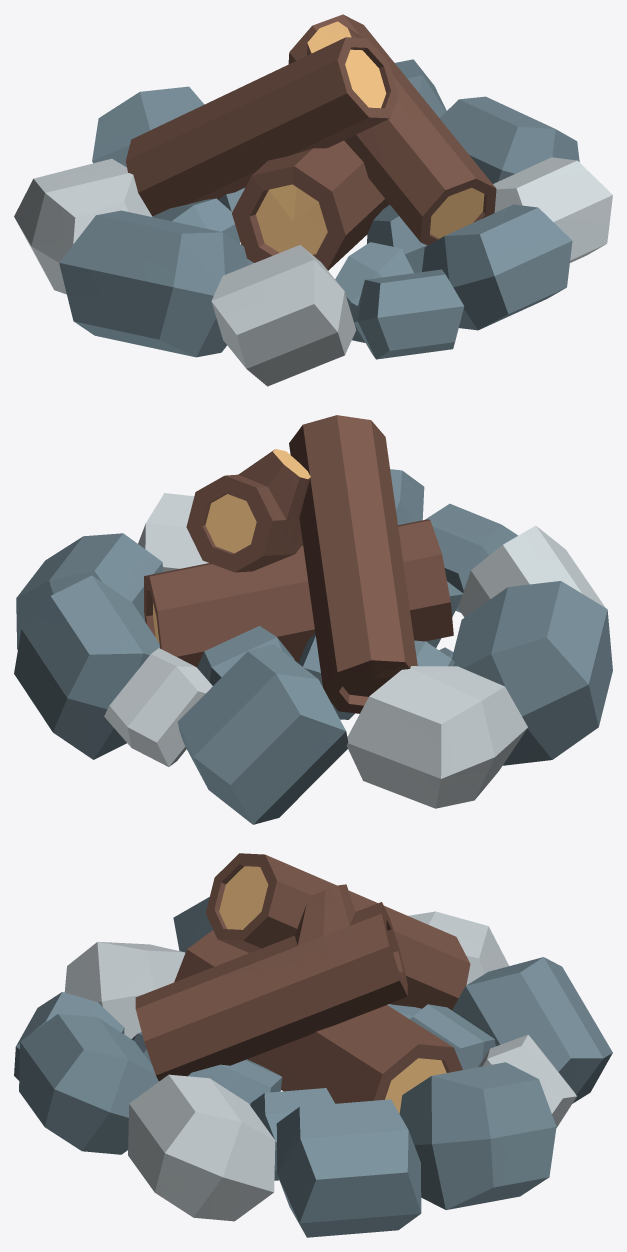
The model's file is campfire.glb.
3 views of the same model, one above another, from view 1: azimuth 30°, elevation 25°; view 2: azimuth 150°, elevation 25°; view 3: azimuth 270°, elevation 25° (orthographic). The views are drawn at different scales.
Visible parts, largest first — view 1: campfire_01_Plane.003; view 2: campfire_01_Plane.003; view 3: campfire_01_Plane.003.
Part boxes in pixels (x1,y1,x2,y2): campfire_01_Plane.003: [14, 14, 612, 386]; campfire_01_Plane.003: [14, 415, 612, 824]; campfire_01_Plane.003: [14, 853, 612, 1237].
Size of the model in its own units: 5.44 by 2.75 by 5.16.
